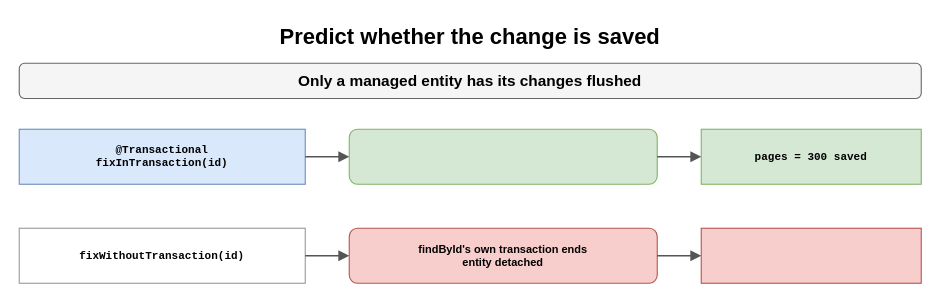
The diagram is 941 pixels wide and 303 high, and some of its shapes have lost their labels. The centre of each missing label's shape, as x and y in pixels:
entity managed until the method's transaction commits → flushed: the point at 502,156
pages = 400 lost: the point at 810,255
